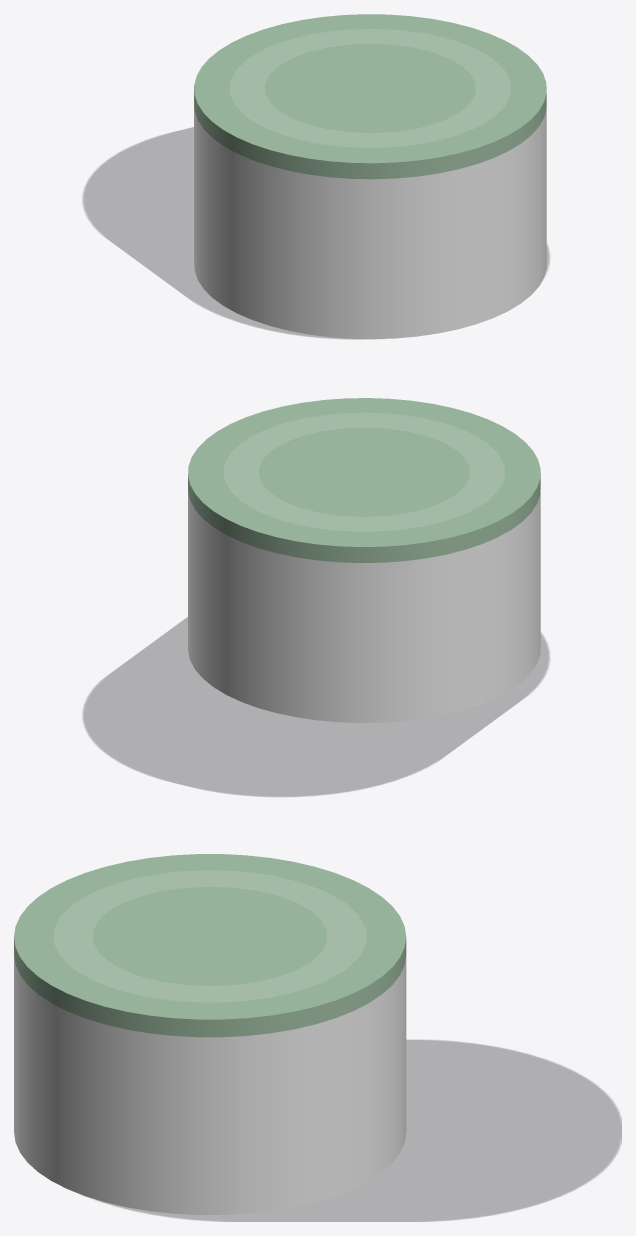
Rendered from block_03.glb.
3 renders of one model, top to bottom at view 1: azimuth 30°, elevation 25°; view 2: azimuth 150°, elevation 25°; view 3: azimuth 270°, elevation 25°, orthographic. The views are drawn at different scales.
Parts seen in each view (by area): view 1: hitObj, block; view 2: hitObj, block; view 3: hitObj, block.
Part boxes in pixels (x1,y1,x2,y2): hitObj: (194, 14, 546, 339); block: (83, 127, 549, 339); hitObj: (188, 398, 540, 722); block: (83, 617, 549, 796); hitObj: (14, 854, 406, 1214); block: (94, 1040, 621, 1221).
Bounding box in the file's own units: 11 × 5.51 × 15.5.
Materials: 4 (1 with a texture image).
